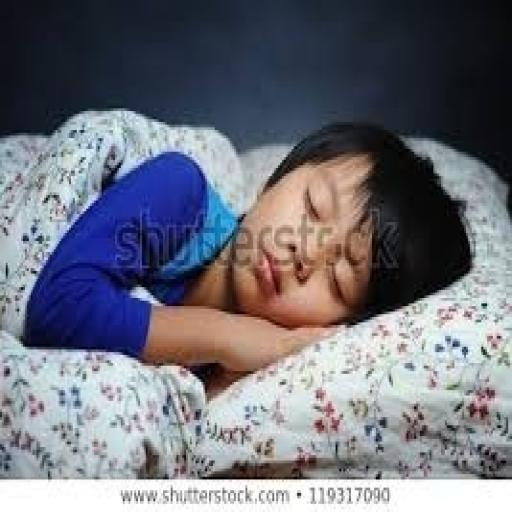sleeping: (4, 106, 474, 384)
